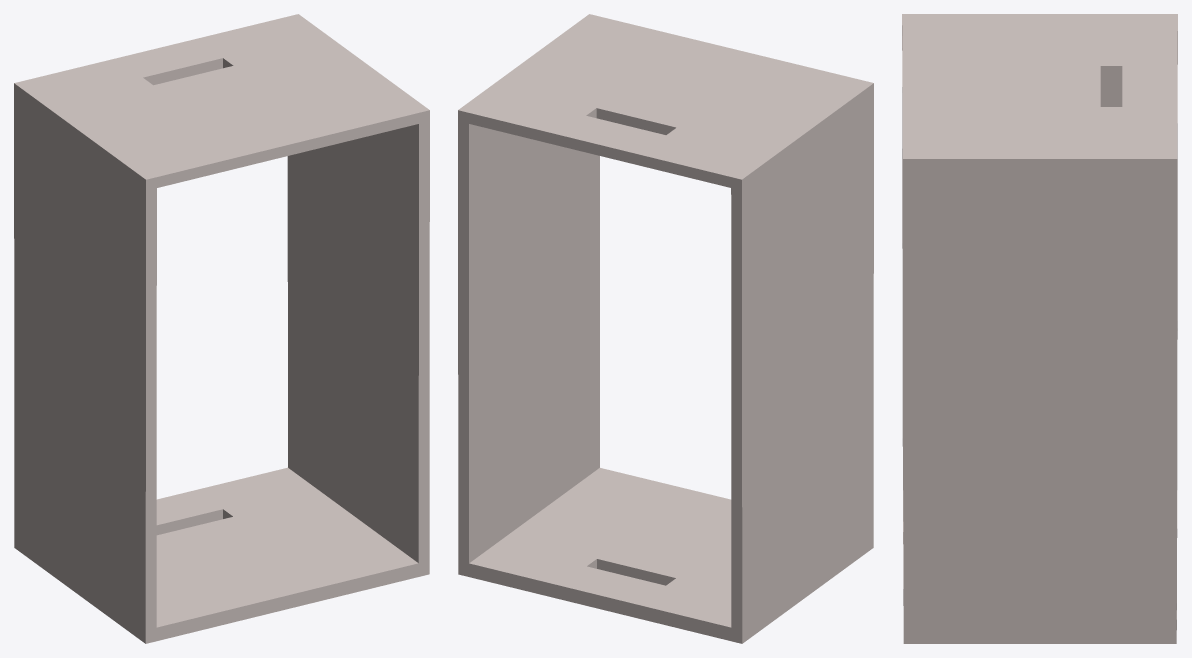
Rendered from crate.glb.
3 views of the same model, side by side, from view 1: azimuth 30°, elevation 25°; view 2: azimuth 150°, elevation 25°; view 3: azimuth 270°, elevation 25° (orthographic). The views are drawn at different scales.
Visible parts, largest first — view 1: warehouse_026; view 2: warehouse_026; view 3: warehouse_026.
Boxes of the visible parts, x1,y1,x2,y2 form: warehouse_026: (14,14,429,643); warehouse_026: (458,14,873,643); warehouse_026: (902,14,1177,643).
Size of the model in its own units: 0.418 by 0.6528 by 0.3363.
1 material, 1 textured.
